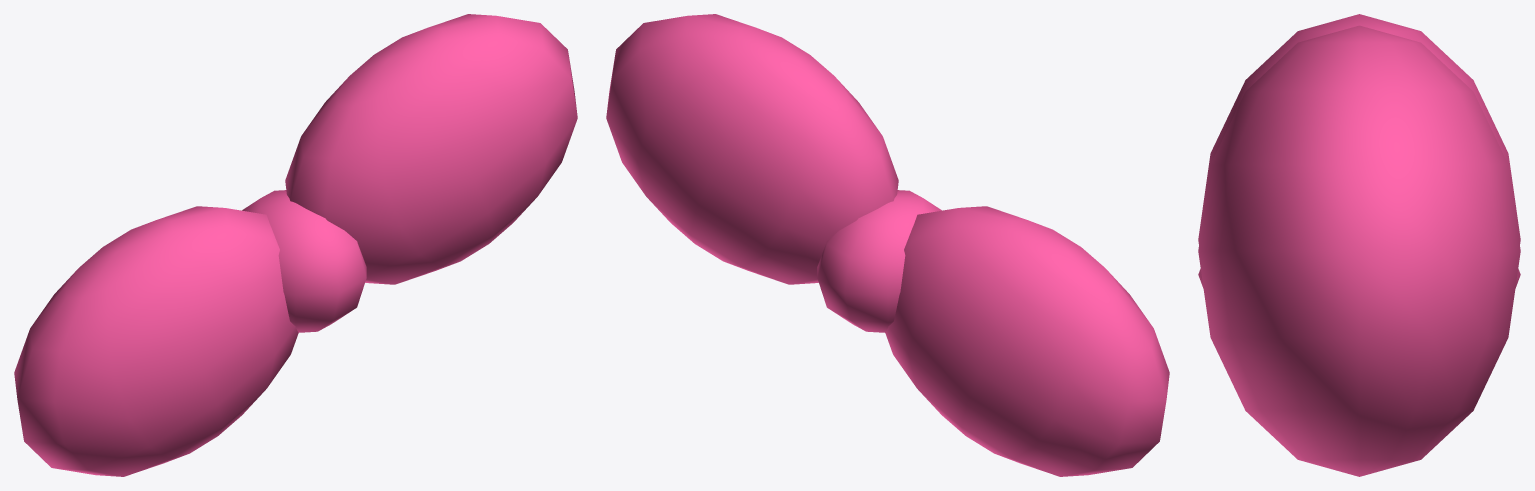
File: acc_bow.glb
3 renders of one model, left to right at view 1: azimuth 30°, elevation 25°; view 2: azimuth 150°, elevation 25°; view 3: azimuth 270°, elevation 25°, orthographic. The views are drawn at different scales.
Visible parts, largest first — view 1: Bow; view 2: Bow; view 3: Bow.
Part boxes in pixels (bbox=[...]): Bow: bbox=[14, 14, 577, 476]; Bow: bbox=[606, 14, 1169, 476]; Bow: bbox=[1198, 14, 1520, 476].
Bounding box in the file's own units: 0.3701 × 0.2296 × 0.1.
